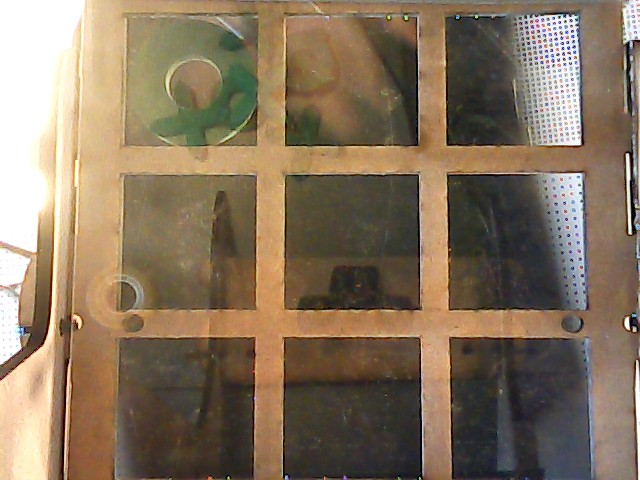O: (129, 15, 259, 144)
